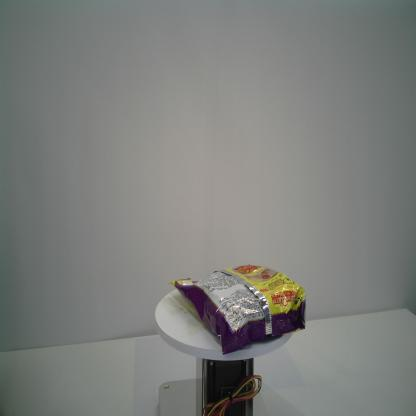Instant Noodles: (166, 262, 308, 357)
